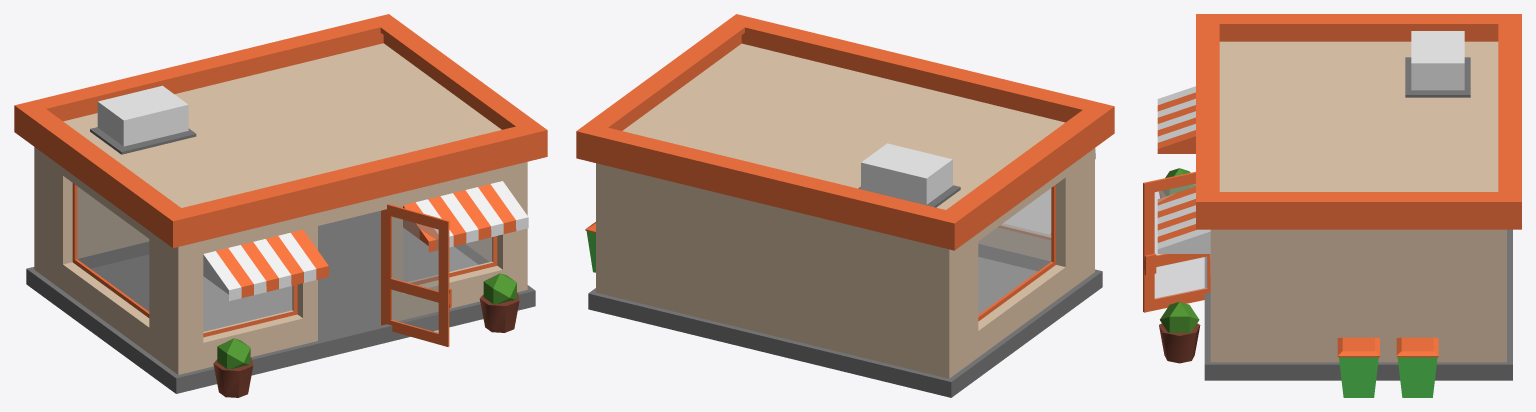
The picture shows the model from 3 angles, left to right: view 1: azimuth 30°, elevation 25°; view 2: azimuth 150°, elevation 25°; view 3: azimuth 270°, elevation 25°; orthographic projection. The views are drawn at different scales.
Visible parts, largest first — view 1: 3DSMeshMatrix.018, 3DSMeshMatrix.031, 3DSMeshMatrix.029, 3DSMeshMatrix.026, 3DSMeshMatrix.023, 3DSMeshMatrix.005, 3DSMeshMatrix.030, 3DSMeshMatrix.025, 3DSMeshMatrix.024, 3DSMeshMatrix.008, 3DSMeshMatrix.012, 3DSMeshMatrix.007 (+11 smaller); view 2: 3DSMeshMatrix.018, 3DSMeshMatrix.029; view 3: 3DSMeshMatrix.018, 3DSMeshMatrix.031, 3DSMeshMatrix.029, 3DSMeshMatrix.021, 3DSMeshMatrix.017, 3DSMeshMatrix.023, 3DSMeshMatrix.015, 3DSMeshMatrix.030, 3DSMeshMatrix.024, 3DSMeshMatrix.022, 3DSMeshMatrix.016, 3DSMeshMatrix.006.
Part boxes in pixels (x1,y1,x2,y2): 3DSMeshMatrix.018: [14, 14, 547, 393]; 3DSMeshMatrix.031: [381, 204, 451, 346]; 3DSMeshMatrix.029: [97, 85, 188, 146]; 3DSMeshMatrix.026: [213, 358, 253, 397]; 3DSMeshMatrix.023: [479, 293, 519, 332]; 3DSMeshMatrix.005: [203, 251, 241, 301]; 3DSMeshMatrix.030: [90, 127, 196, 154]; 3DSMeshMatrix.025: [217, 338, 250, 369]; 3DSMeshMatrix.024: [483, 273, 516, 304]; 3DSMeshMatrix.008: [403, 202, 438, 252]; 3DSMeshMatrix.012: [453, 190, 491, 240]; 3DSMeshMatrix.007: [278, 233, 316, 282]; 3DSMeshMatrix.018: [576, 14, 1114, 397]; 3DSMeshMatrix.029: [861, 143, 952, 204]; 3DSMeshMatrix.018: [1154, 14, 1521, 380]; 3DSMeshMatrix.031: [1143, 171, 1210, 312]; 3DSMeshMatrix.029: [1411, 31, 1464, 90]; 3DSMeshMatrix.021: [1339, 357, 1378, 397]; 3DSMeshMatrix.017: [1397, 357, 1437, 397]; 3DSMeshMatrix.023: [1159, 323, 1200, 363]; 3DSMeshMatrix.015: [1157, 229, 1210, 253]; 3DSMeshMatrix.030: [1405, 57, 1470, 97]; 3DSMeshMatrix.024: [1160, 301, 1199, 332]; 3DSMeshMatrix.022: [1337, 337, 1379, 357]; 3DSMeshMatrix.016: [1396, 337, 1438, 357]; 3DSMeshMatrix.006: [1157, 130, 1195, 153].
Size of the model in its own units: 81.32 by 36.04 by 63.89.
